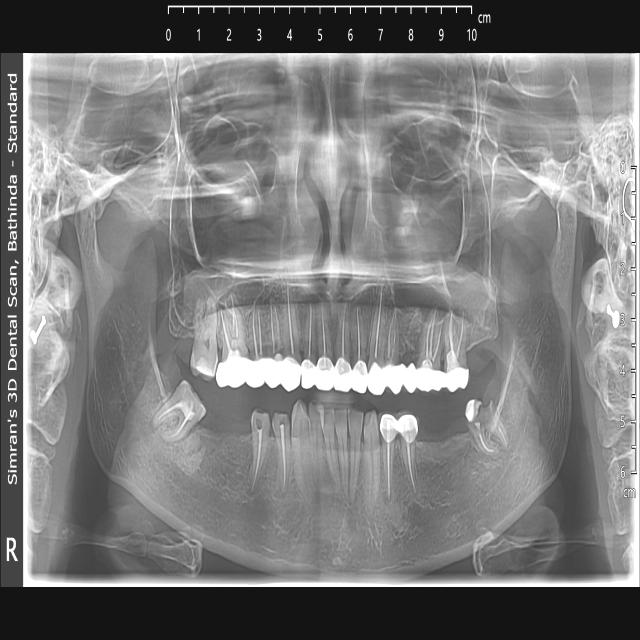Caries: (478, 403, 492, 428)
Crown: (215, 354, 469, 395), (381, 415, 417, 444)
Filling: (465, 400, 484, 424), (195, 356, 212, 375), (447, 349, 461, 372), (179, 398, 192, 421), (422, 355, 433, 372)
Mandibular Canal: (118, 362, 276, 551), (402, 336, 548, 531)
Missing teeth: (418, 405, 467, 445), (197, 408, 252, 437)
Root Canal Treatment: (250, 426, 263, 493), (374, 281, 383, 363), (477, 421, 496, 454), (154, 405, 180, 426), (287, 294, 295, 361), (220, 309, 232, 351), (429, 306, 438, 362), (455, 308, 464, 363), (432, 320, 443, 363), (407, 441, 416, 490), (167, 418, 189, 436), (281, 422, 286, 496), (275, 301, 281, 353), (388, 309, 394, 361), (495, 420, 507, 446), (386, 441, 391, 502), (426, 314, 433, 356), (322, 306, 327, 364), (447, 313, 454, 351), (258, 308, 263, 357), (253, 303, 257, 360), (308, 305, 312, 362), (342, 302, 346, 358), (357, 307, 361, 359), (231, 294, 236, 334), (272, 306, 276, 355), (234, 312, 239, 347)
maxillary sinus: (170, 151, 284, 322), (370, 146, 492, 282)
